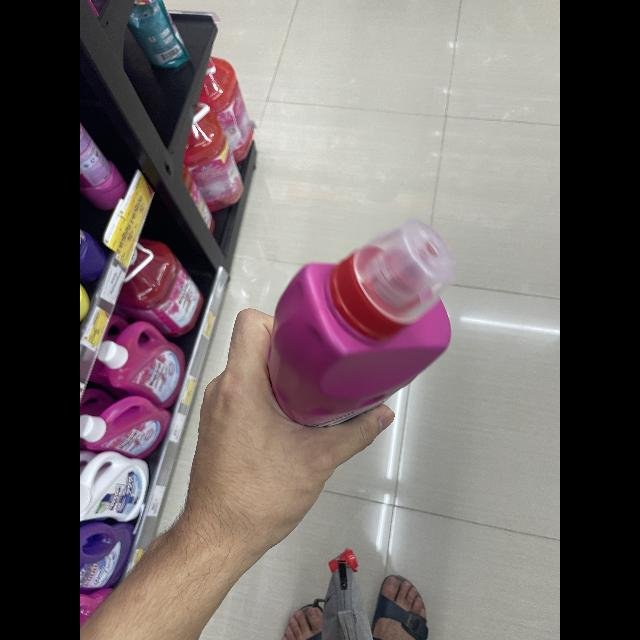chemical_plastic_bottle: (260, 210, 456, 436)
